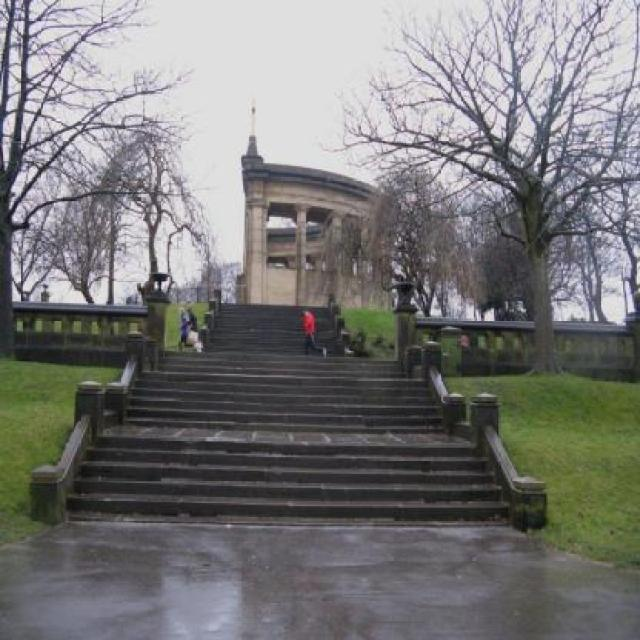stair: (63, 299, 519, 523)
